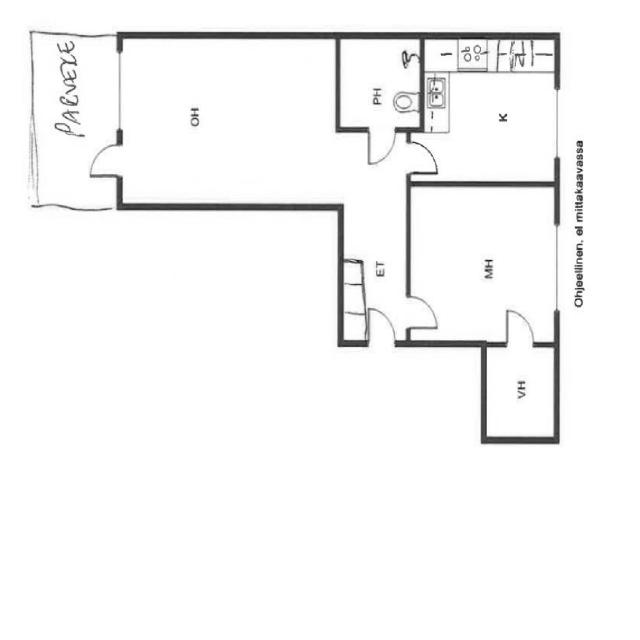door: (485, 340, 558, 440), (84, 136, 127, 182), (499, 305, 539, 349), (403, 135, 445, 176), (402, 292, 442, 332), (364, 124, 398, 168), (366, 304, 398, 350)
window: (549, 221, 568, 316), (112, 48, 128, 134), (550, 84, 565, 162)
zone: (117, 38, 346, 210), (406, 182, 560, 344), (418, 35, 562, 185), (338, 36, 422, 130), (484, 343, 559, 441)
